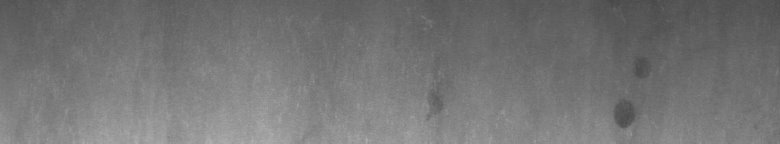fi: (612, 60, 648, 136)
